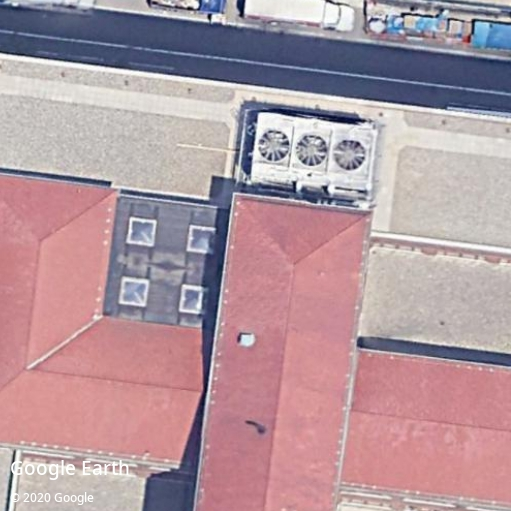Vent: (295, 135, 328, 166), (259, 130, 290, 161), (334, 140, 366, 170)
